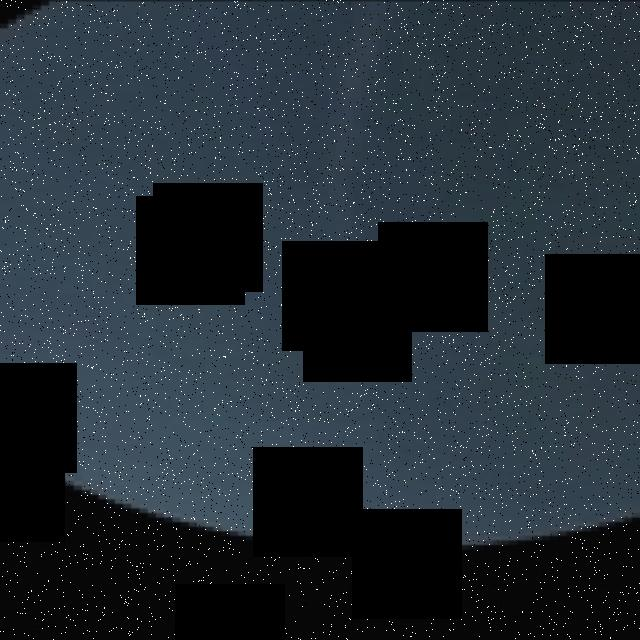Uranus: (0, 1, 640, 548)
